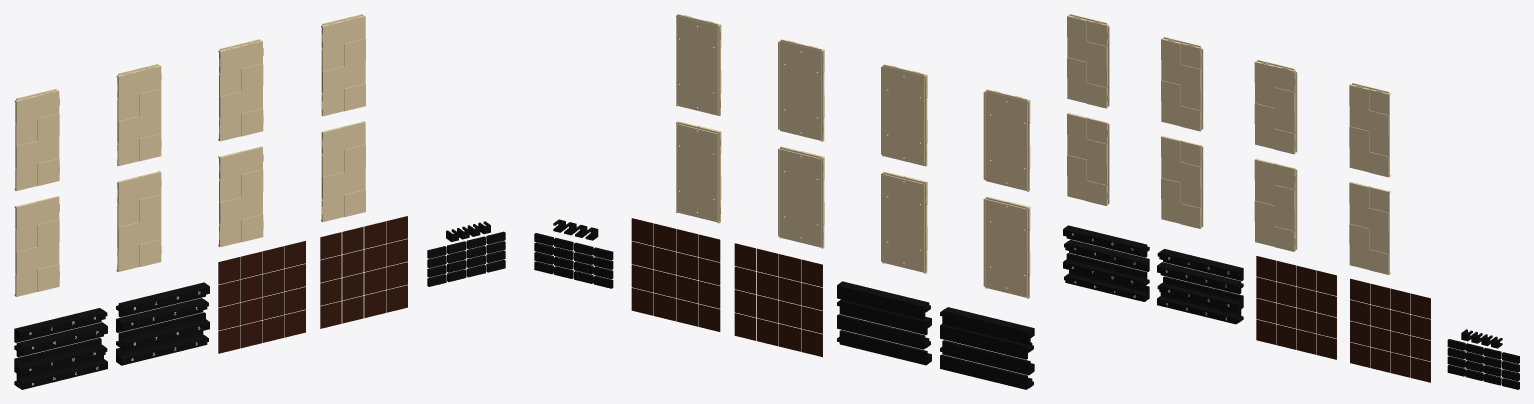
The model's file is .eight_panel_print_kit.step.glb.
3 views of the same model, side by side, from view 1: azimuth 30°, elevation 25°; view 2: azimuth 150°, elevation 25°; view 3: azimuth 330°, elevation 25° (orthographic). The views are drawn at different scales.
Visible parts, largest first — view 1: o1.1.1, o1.4.1, o1.2.1, o1.3.1, o1.5.1, o1.6.1, o1.8.1, o1.7.1, o1.10.2.1, o1.9.2.1, o1.10.1.1, o1.9.1.1 (+36 smaller); view 2: o1.1.1, o1.5.1, o1.2.1, o1.3.1, o1.6.1, o1.7.1, o1.4.1, o1.8.1, o1.9.4.1, o1.10.4.1, o1.10.3.1, o1.9.3.1 (+36 smaller); view 3: o1.3.1, o1.1.1, o1.2.1, o1.7.1, o1.5.1, o1.6.1, o1.4.1, o1.8.1, o1.9.2.1, o1.10.2.1, o1.9.1.1, o1.10.1.1 (+36 smaller).
Part boxes in pixels (<box>): o1.1.1: <box>14,89,59,190</box>; o1.4.1: <box>321,14,365,116</box>; o1.2.1: <box>116,64,161,166</box>; o1.3.1: <box>218,39,263,141</box>; o1.5.1: <box>14,196,59,296</box>; o1.6.1: <box>116,171,161,271</box>; o1.8.1: <box>321,121,365,222</box>; o1.7.1: <box>218,146,263,247</box>; o1.10.2.1: <box>116,312,209,349</box>; o1.9.2.1: <box>14,338,107,375</box>; o1.10.1.1: <box>116,331,208,365</box>; o1.9.1.1: <box>14,355,107,389</box>; o1.1.1: <box>983,89,1030,191</box>; o1.5.1: <box>983,196,1030,298</box>; o1.2.1: <box>881,64,927,166</box>; o1.3.1: <box>778,39,824,141</box>; o1.6.1: <box>881,171,927,273</box>; o1.7.1: <box>778,146,824,248</box>; o1.4.1: <box>676,14,721,115</box>; o1.8.1: <box>676,121,721,223</box>; o1.9.4.1: <box>940,307,1034,344</box>; o1.10.4.1: <box>837,281,930,319</box>; o1.10.3.1: <box>837,299,931,334</box>; o1.9.3.1: <box>940,324,1033,359</box>; o1.3.1: <box>1254,60,1297,154</box>; o1.1.1: <box>1067,14,1109,108</box>; o1.2.1: <box>1161,37,1203,131</box>; o1.7.1: <box>1254,158,1297,251</box>; o1.5.1: <box>1067,112,1109,205</box>; o1.6.1: <box>1161,136,1203,228</box>; o1.4.1: <box>1349,83,1390,177</box>; o1.8.1: <box>1349,182,1390,274</box>; o1.9.2.1: <box>1063,253,1149,287</box>; o1.10.2.1: <box>1157,276,1243,311</box>; o1.9.1.1: <box>1064,270,1149,301</box>; o1.10.1.1: <box>1157,292,1243,324</box>.
Size of the model in its own units: 1.37 by 0.8142 by 0.0276.
